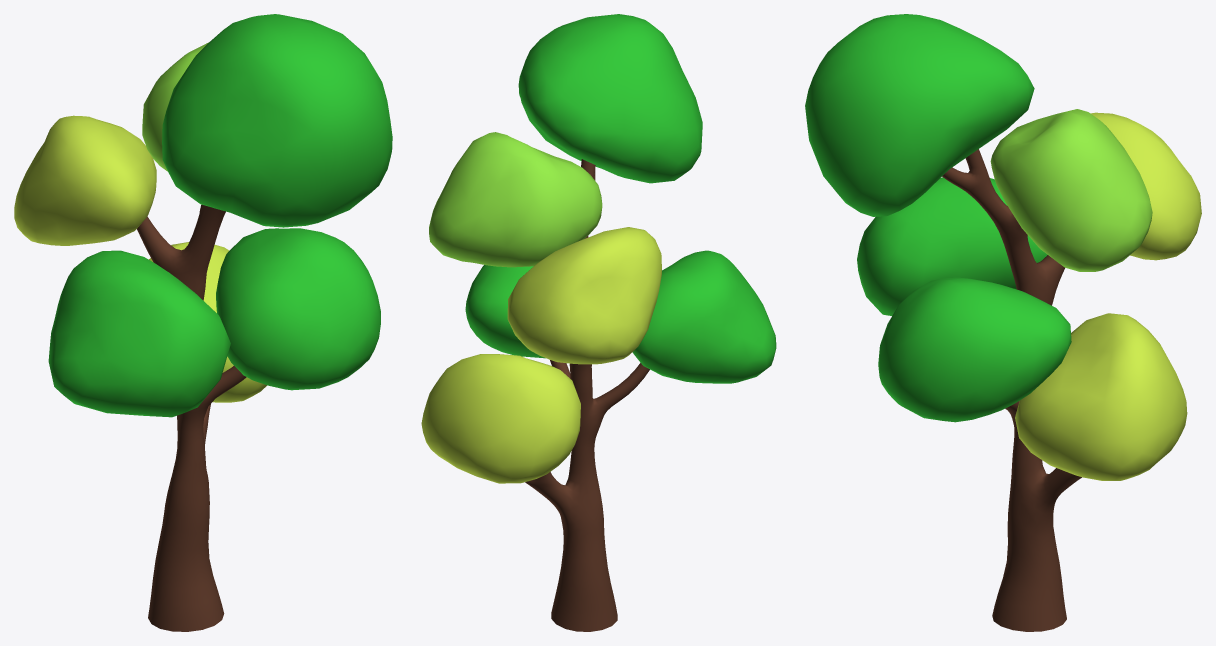
The model's file is tree_04.fbx.
3 views of the same model, side by side, from view 1: azimuth 30°, elevation 25°; view 2: azimuth 150°, elevation 25°; view 3: azimuth 270°, elevation 25° (orthographic). The views are drawn at different scales.
Visible parts, largest first — view 1: tree1_Icosphere.012; view 2: tree1_Icosphere.012; view 3: tree1_Icosphere.012.
Boxes of the visible parts, x1,y1,x2,y2 form: tree1_Icosphere.012: (14, 14, 392, 631); tree1_Icosphere.012: (421, 14, 776, 631); tree1_Icosphere.012: (805, 14, 1201, 631).
Size of the model in its own units: 406 by 758 by 446.
